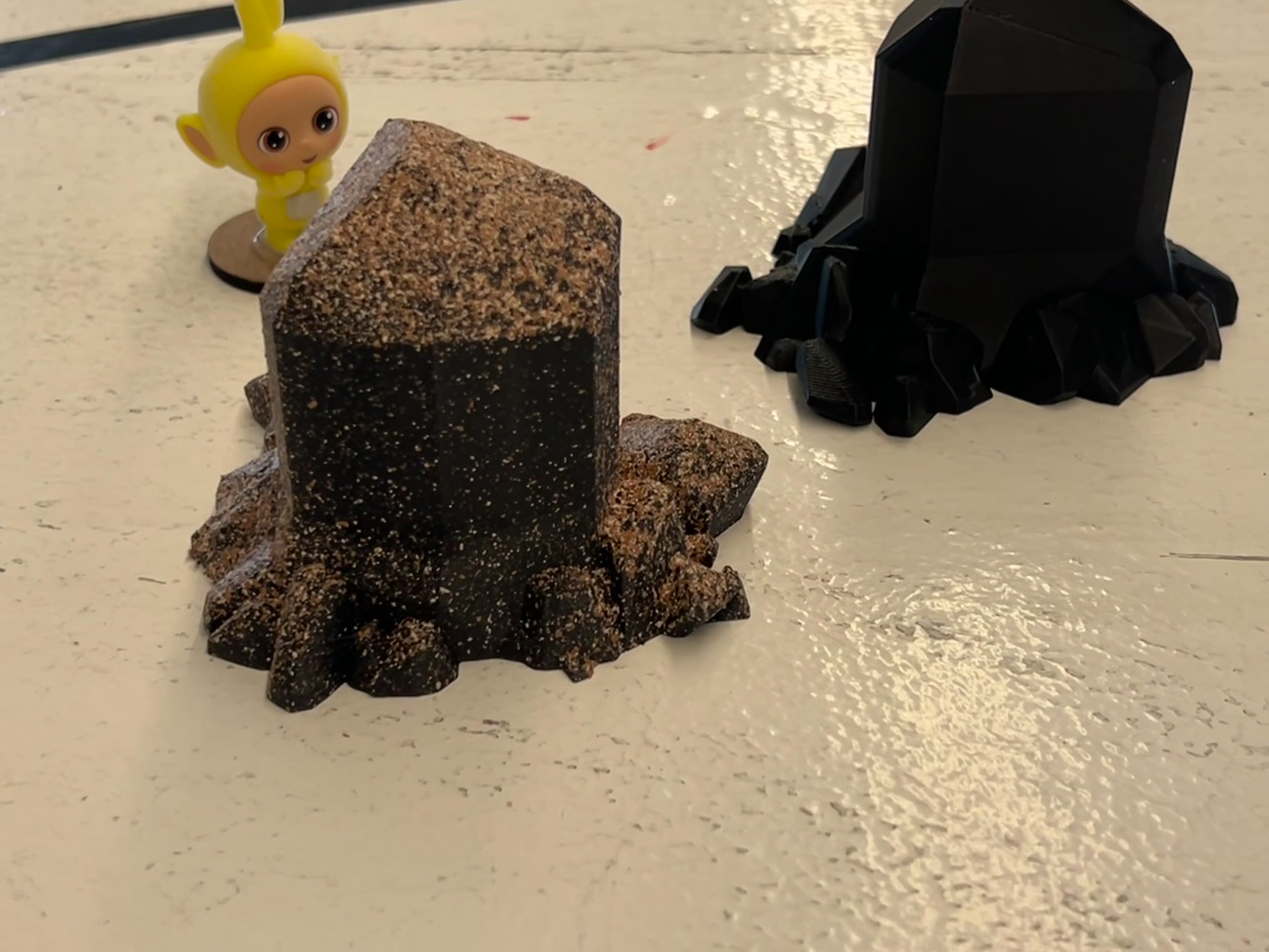teletubby: (177, 0, 349, 255)
